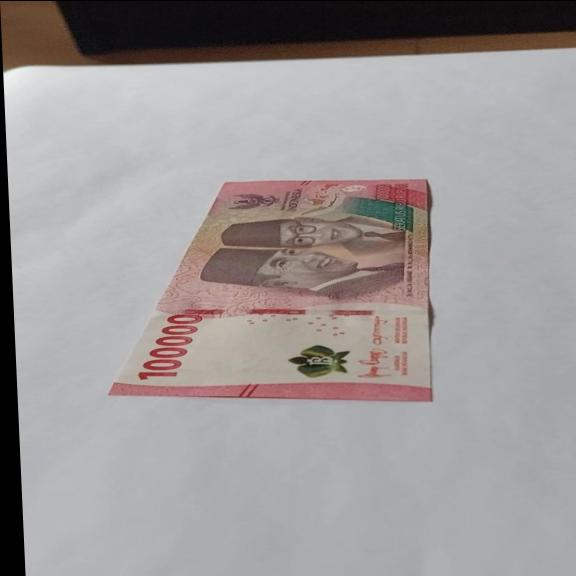Kertas: (96, 177, 440, 401), (132, 312, 207, 381)
